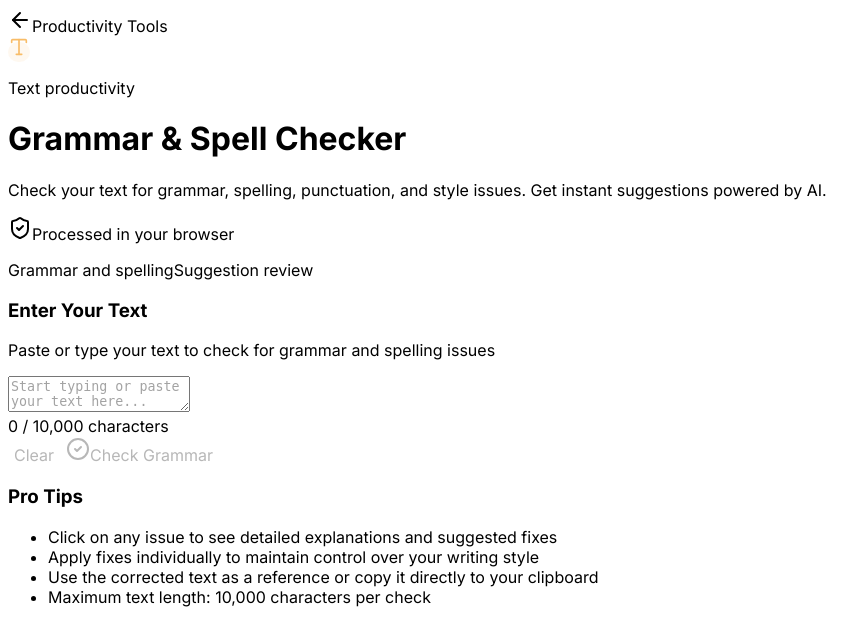
Test case: Grammar Checker Page › Text Input › enables check button when text is entered
This screenshot has width=843, height=624.
Check: the button "Check Grammar" is disabled, box [60,436,219,466]
Type "Test text" into the text box with placeholder "Start typing or paste your text here..." at (99, 394), box [8,376,190,412]
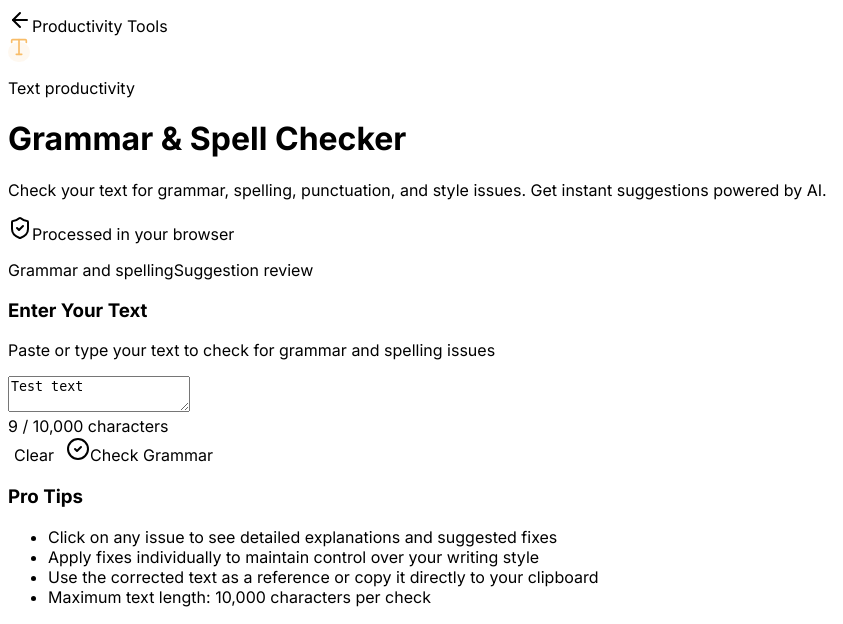
Check: the button "Check Grammar" is enabled, box [60,436,219,466]
